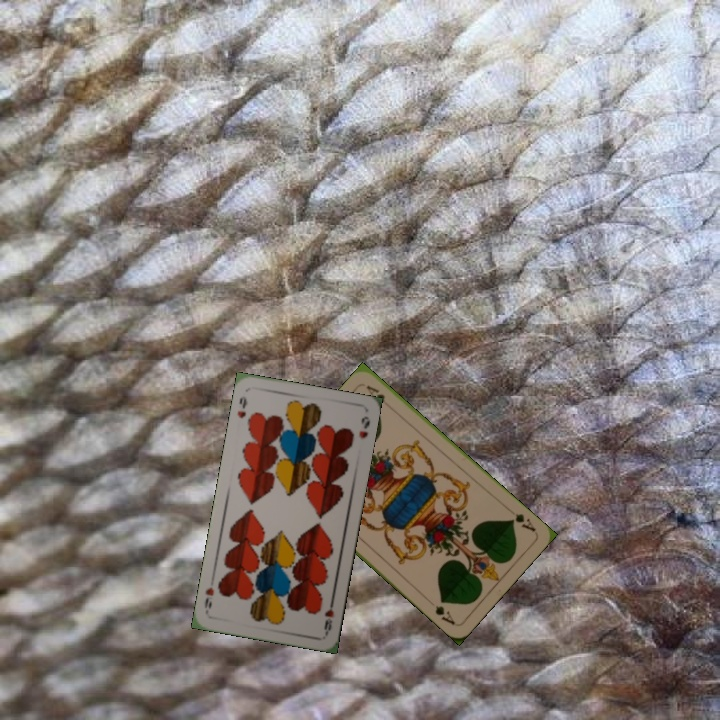GA: (507, 509, 538, 535)
H9: (320, 595, 336, 636), (233, 392, 249, 421)
